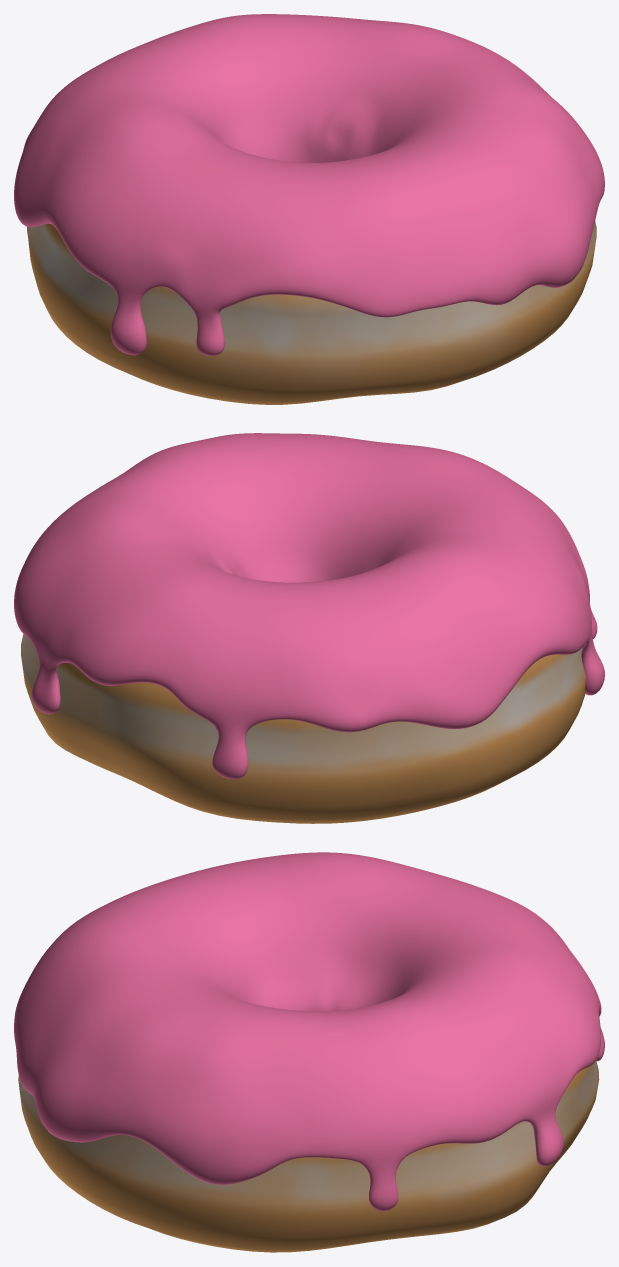
File: Donut.gltf
3 views of the same model, one above another, from view 1: azimuth 30°, elevation 25°; view 2: azimuth 150°, elevation 25°; view 3: azimuth 270°, elevation 25° (orthographic). The views are drawn at different scales.
Visible parts, largest first — view 1: Icing, Donut; view 2: Icing, Donut; view 3: Icing, Donut.
Boxes of the visible parts, x1,y1,x2,y2 form: Icing: (14, 14, 604, 355); Donut: (27, 221, 596, 404); Icing: (14, 433, 604, 779); Donut: (21, 634, 585, 823); Icing: (14, 852, 604, 1211); Donut: (18, 1059, 599, 1252).
Bounding box in the file's own units: 0.1949 × 0.0857 × 0.1947.
2 materials, 1 textured.
